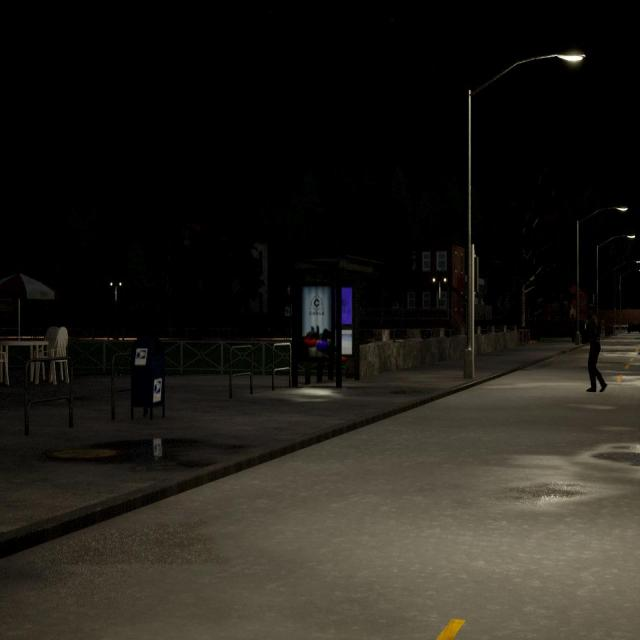Pedestrian: (586, 311, 606, 392)
Vehicle: (624, 305, 640, 334)
traffic_light: (468, 254, 480, 298)
